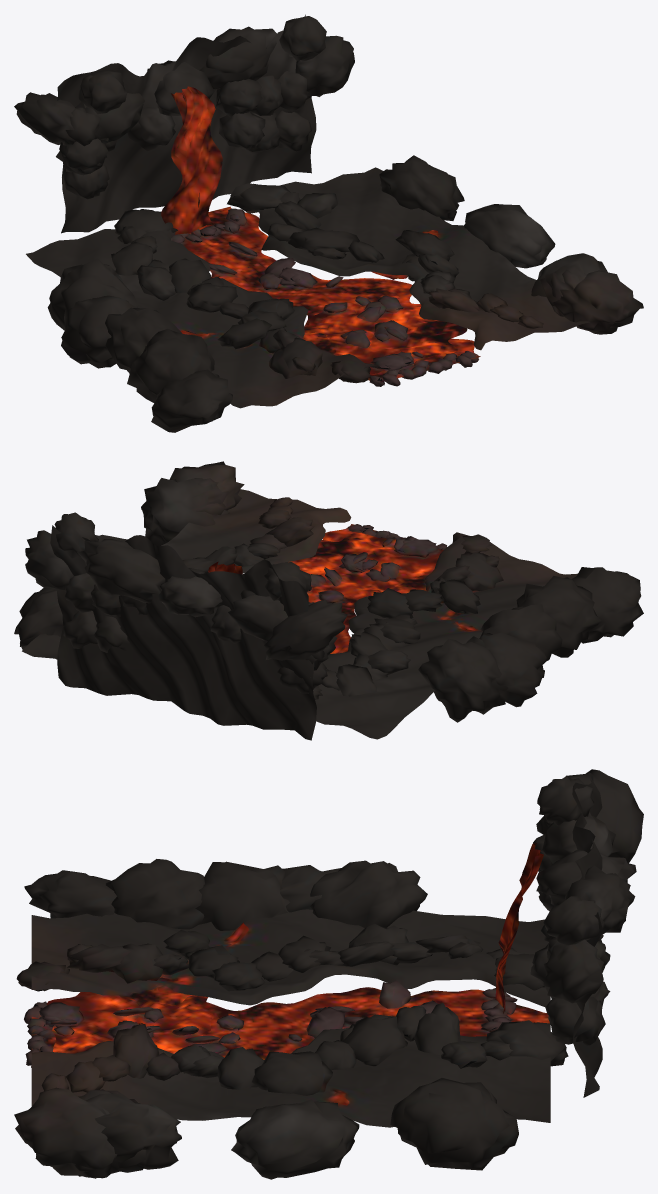
Rendered from b4lod_magma_river_v16.glb.
The picture shows the model from 3 angles, top to bottom: view 1: azimuth 30°, elevation 25°; view 2: azimuth 150°, elevation 25°; view 3: azimuth 270°, elevation 25°; orthographic projection. The views are drawn at different scales.
Visible parts, largest first — view 1: b4lod_magma_river_v16; view 2: b4lod_magma_river_v16; view 3: b4lod_magma_river_v16.
Part boxes in pixels (bbox=[...]): b4lod_magma_river_v16: bbox=[14, 14, 643, 432]; b4lod_magma_river_v16: bbox=[14, 461, 643, 740]; b4lod_magma_river_v16: bbox=[14, 769, 643, 1179].
Size of the model in its own units: 8.5 by 3.31 by 8.14.
1 material, 1 textured.
